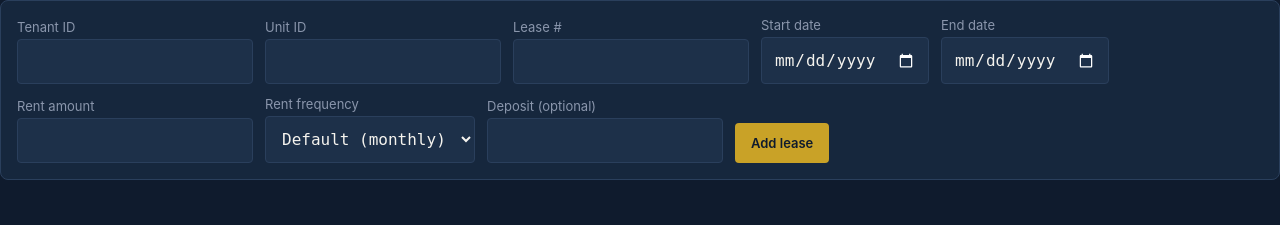
Test: CreateLeaseForm › shows the action-returned error message on failure
In the field labelled "Tenant ID": [135, 62] box [17,39,253,84], type "tenant-1"
In the field labelled "Unit ID": [383, 62] box [265,39,501,84], type "unit-1"
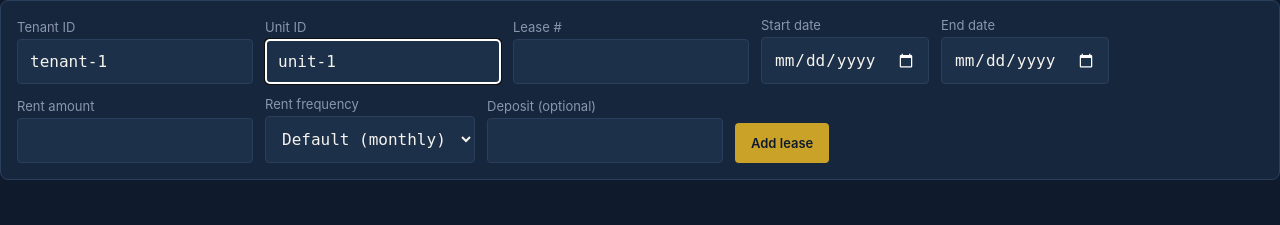
In the field labelled "Lease #": [631, 62] box [513,39,749,84], type "LSE-0001"
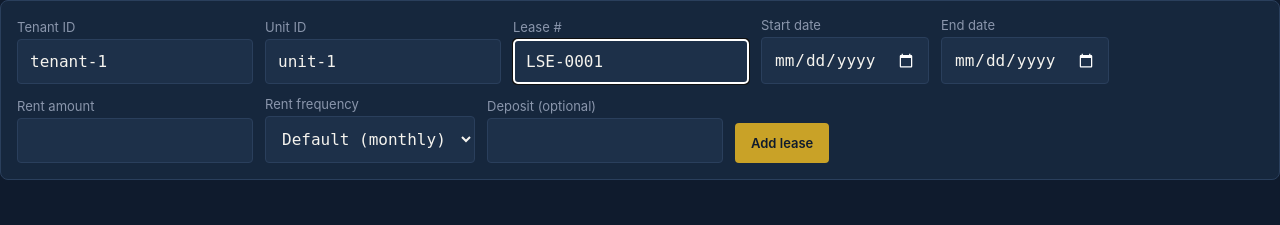
In the date field labelled "Start date": [845, 60] box [761,37,929,84], type "2026-01-01"
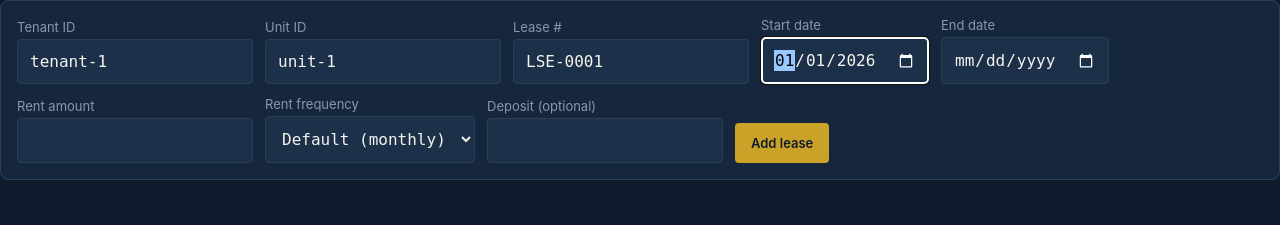
In the date field labelled "End date": [1025, 60] box [941,37,1109,84], type "2026-12-31"
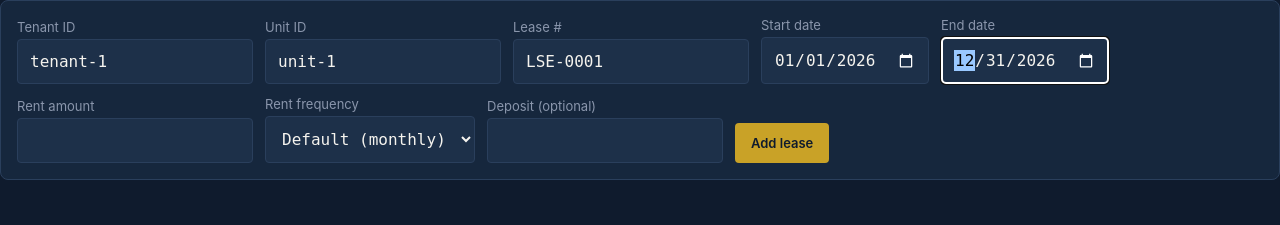
In the number field labelled "Rent amount": [135, 140] box [17,118,253,163], type "150000"
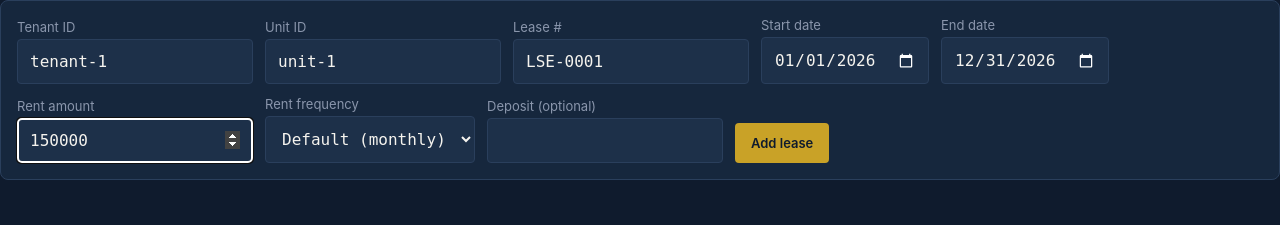
Click the button "Add lease": [782, 143] box [735,123,829,163]
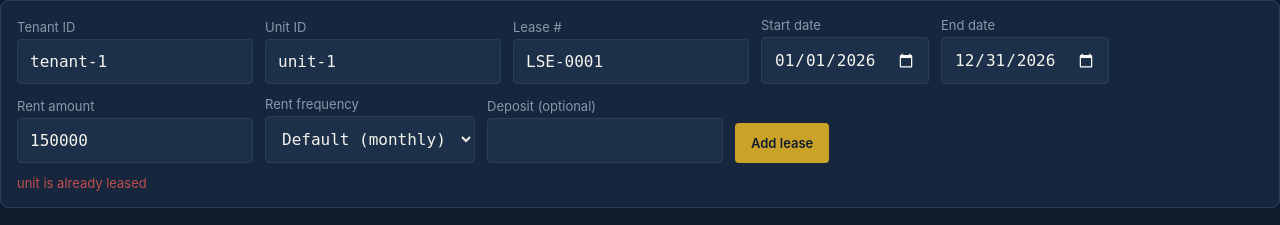
Check: the text "unit is already leased" is shown, box [17,175,147,191]
